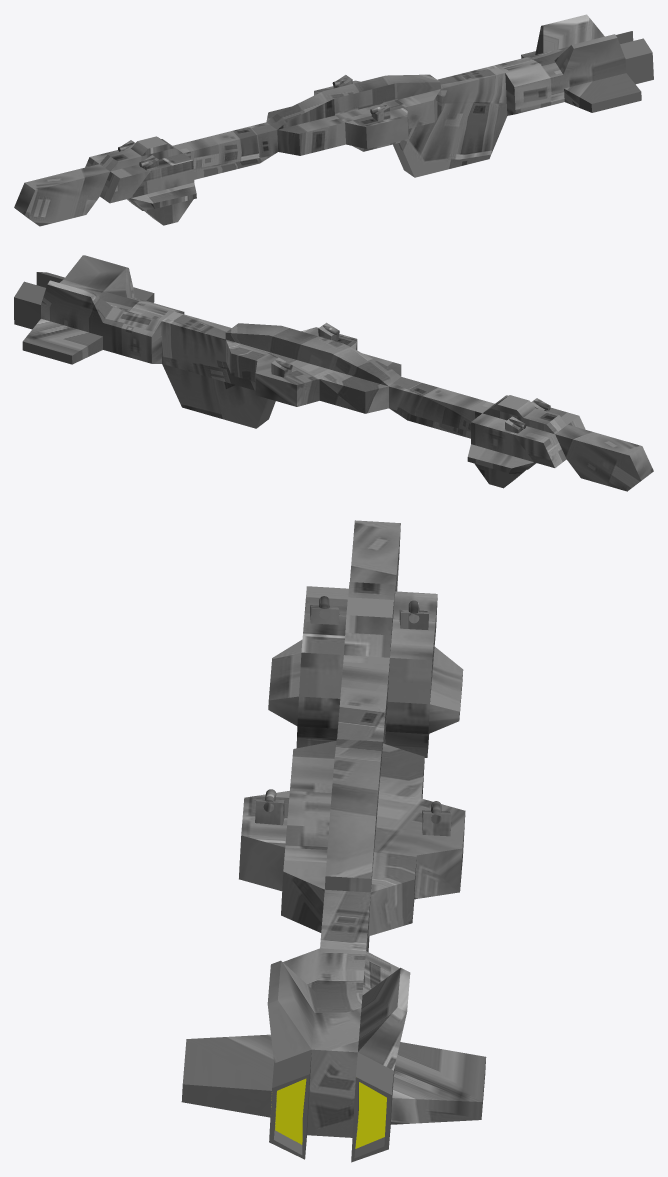
The picture shows the model from 3 angles, top to bottom: view 1: azimuth 30°, elevation 25°; view 2: azimuth 150°, elevation 25°; view 3: azimuth 270°, elevation 25°; orthographic projection. The views are drawn at different scales.
Visible parts, largest first — view 1: DestroyerR_Destroyer_Untitled.000; view 2: DestroyerR_Destroyer_Untitled.000; view 3: DestroyerR_Destroyer_Untitled.000.
Part boxes in pixels (bbox=[...]): DestroyerR_Destroyer_Untitled.000: bbox=[14, 14, 653, 226]; DestroyerR_Destroyer_Untitled.000: bbox=[14, 255, 653, 491]; DestroyerR_Destroyer_Untitled.000: bbox=[181, 520, 486, 1162].
Bounding box in the file's own units: 1618 × 268 × 350.
